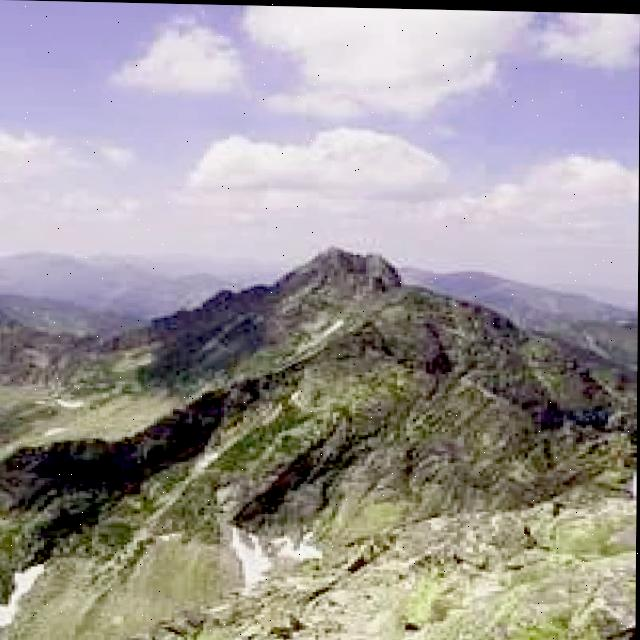Swinica: (257, 199, 446, 310)
